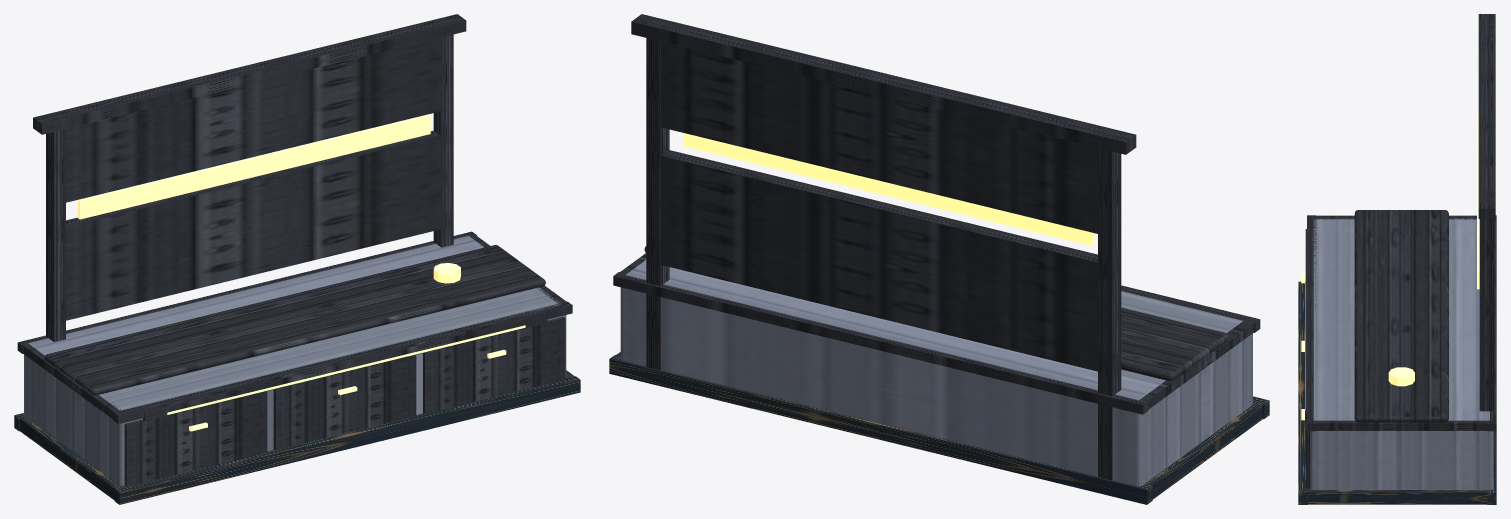
The model's file is bridge_sideboard.glb.
3 views of the same model, side by side, from view 1: azimuth 30°, elevation 25°; view 2: azimuth 150°, elevation 25°; view 3: azimuth 270°, elevation 25° (orthographic). The views are drawn at different scales.
Visible parts, largest first — view 1: sight_shell, top, body, door0, door1, door2, shelltoe0, sightglow, shellrim0, grille, shelltoes0, shellrim2 (+2 smaller); view 2: sight_shell, body, shelltoe2, shellrim2, sightglow, top, shelltoes0, shellrims0, shellrim0; view 3: body, top, sight_shell, shelltoes2, shelltoe0, shellrims2, shellrim0, shellrim2, lamp, sightglow, grille, shelltoe2 (+2 smaller).
Boxes of the visible parts, <box> form: sight_shell: <box>33,14,466,341</box>; top: <box>44,245,545,395</box>; body: <box>24,236,566,486</box>; door0: <box>124,391,267,486</box>; door1: <box>273,355,416,450</box>; door2: <box>423,317,565,413</box>; shelltoe0: <box>114,376,580,504</box>; sightglow: <box>78,114,430,219</box>; shellrim0: <box>113,301,572,423</box>; grille: <box>143,313,547,420</box>; shelltoes0: <box>19,416,124,500</box>; shellrim2: <box>17,231,476,353</box>; sight_shell: <box>631,14,1136,480</box>; body: <box>620,260,1252,486</box>; shelltoe2: <box>609,355,1152,504</box>; shellrim2: <box>613,272,1148,414</box>; sightglow: <box>683,133,1094,245</box>; top: <box>644,246,1228,381</box>; shelltoes0: <box>1145,400,1264,499</box>; shellrims0: <box>1140,320,1254,409</box>; shellrim0: <box>1121,285,1260,332</box>; body: <box>1310,218,1493,489</box>; top: <box>1354,210,1448,422</box>; sight_shell: <box>1478,14,1495,478</box>; shelltoes2: <box>1305,488,1489,504</box>; shelltoe0: <box>1298,281,1307,504</box>; shellrims2: <box>1313,420,1489,430</box>; shellrim0: <box>1307,215,1316,431</box>; shellrim2: <box>1487,215,1496,431</box>; lamp: <box>1388,367,1414,386</box>; sightglow: <box>1477,111,1479,289</box>; grille: <box>1305,229,1306,421</box>; shelltoe2: <box>1487,431,1496,504</box>.
Size of the model in its own units: 2.68 by 1.7 by 1.06.
Materials: 6 (4 with a texture image).
